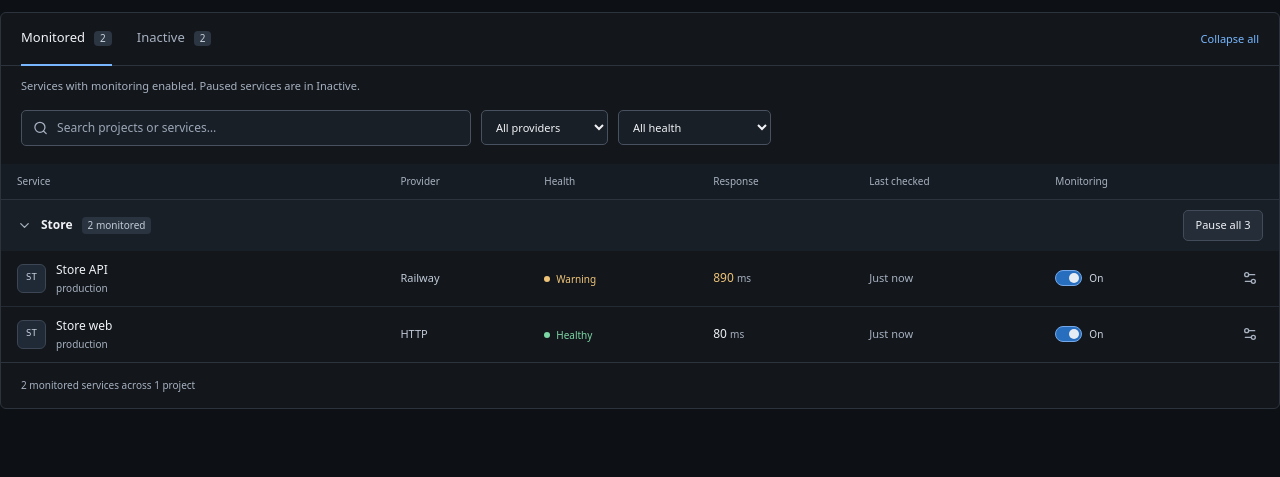
Scenario: React project monitoring workspace › keeps paused services in Inactive and supports keyboard tab selection
Check: the button with aria-label "Configure Store API" is shown, box 17,260 -> 108,296
Click the tab "Inactive 2": (174, 40) 137,13 -> 212,66
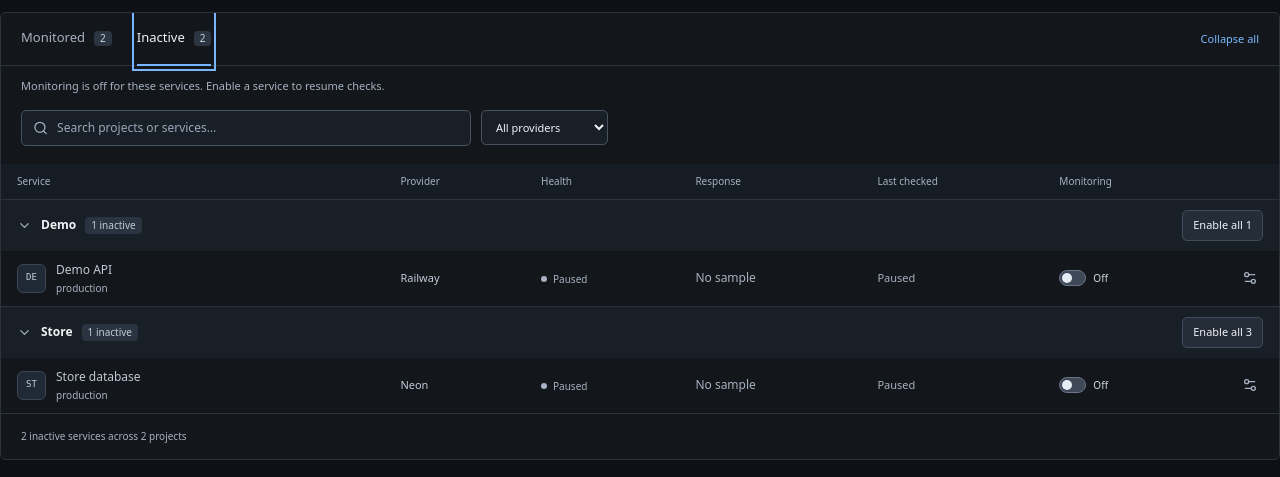
Check: the button with aria-label "Configure Store database" is shown, box 17,368 -> 141,402
Check: the button with aria-label "Configure Demo API" is shown, box 17,260 -> 112,296
Press Arrowleft
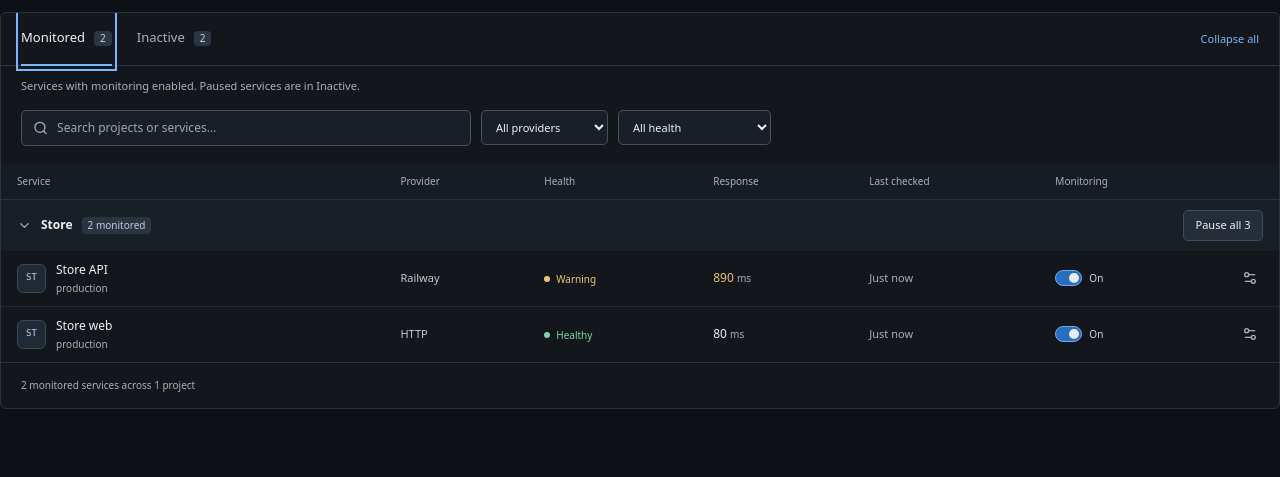
Check: the button with aria-label "Configure Store API" is shown, box 17,260 -> 108,296
